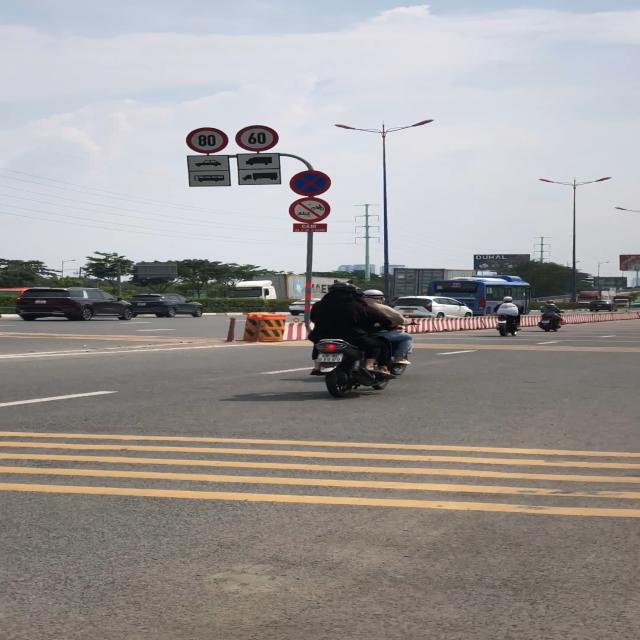Bien bao cam dung xe va do xe: (288, 167, 335, 198)
Bien bao toc do toi da cho phep: (232, 122, 287, 156), (185, 126, 231, 154)
